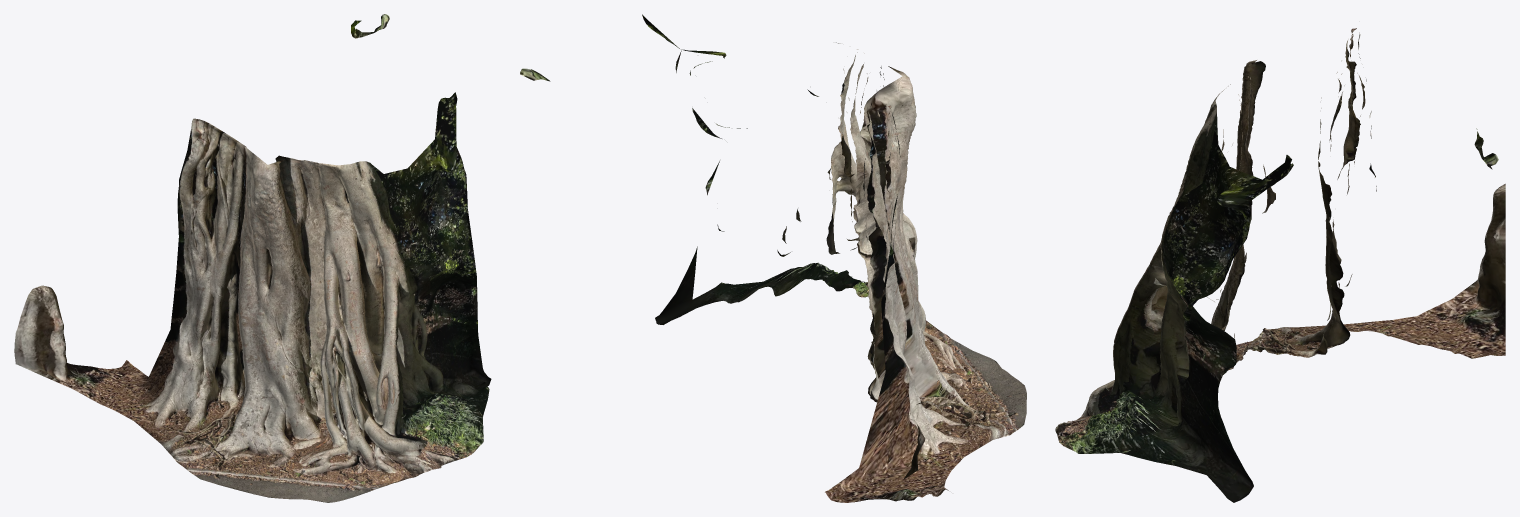
File: banyan-tree.glb
The picture shows the model from 3 angles, left to right: view 1: azimuth 30°, elevation 25°; view 2: azimuth 150°, elevation 25°; view 3: azimuth 270°, elevation 25°; orthographic projection. The views are drawn at different scales.
Parts seen in each view (by area): view 1: g0; view 2: g0; view 3: g0.
Part boxes in pixels (left/top/right/bottom): g0: left=14, top=14, right=491, bottom=502; g0: left=520, top=14, right=1026, bottom=502; g0: left=1055, top=28, right=1505, bottom=502.
Bounding box in the file's own units: 1.57 × 1.29 × 1.37.
1 material, 1 textured.
